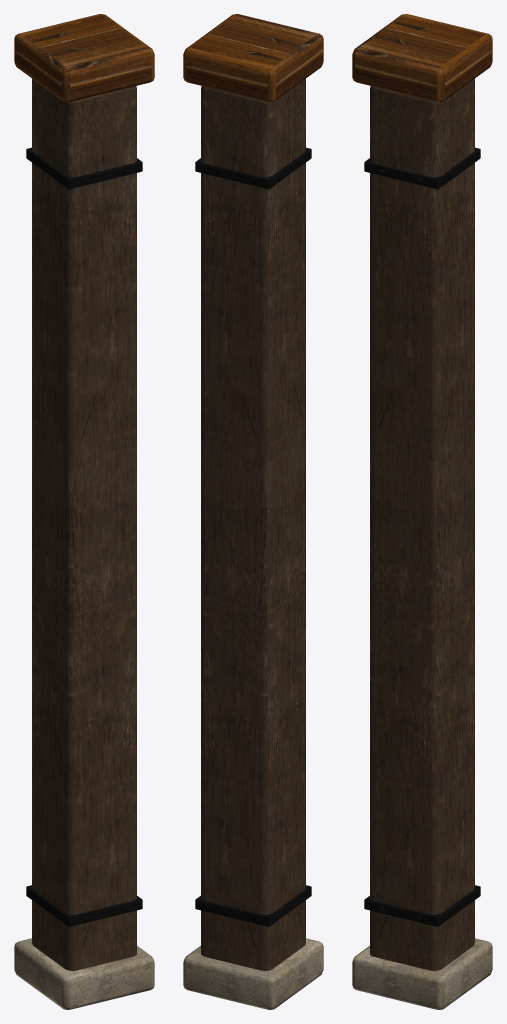
The model's file is ENV_WarmWood_Post_A.glb.
3 renders of one model, left to right at view 1: azimuth 30°, elevation 25°; view 2: azimuth 150°, elevation 25°; view 3: azimuth 330°, elevation 25°, orthographic.
Visible parts, largest first — view 1: ENV_WarmWood_Post_A; view 2: ENV_WarmWood_Post_A; view 3: ENV_WarmWood_Post_A.
Part boxes in pixels (<box>): ENV_WarmWood_Post_A: <box>14,14,154,1009</box>; ENV_WarmWood_Post_A: <box>183,14,323,1009</box>; ENV_WarmWood_Post_A: <box>352,14,492,1009</box>.
Bounding box in the file's own units: 0.34 × 3.32 × 0.34.
4 materials, 4 textured.
